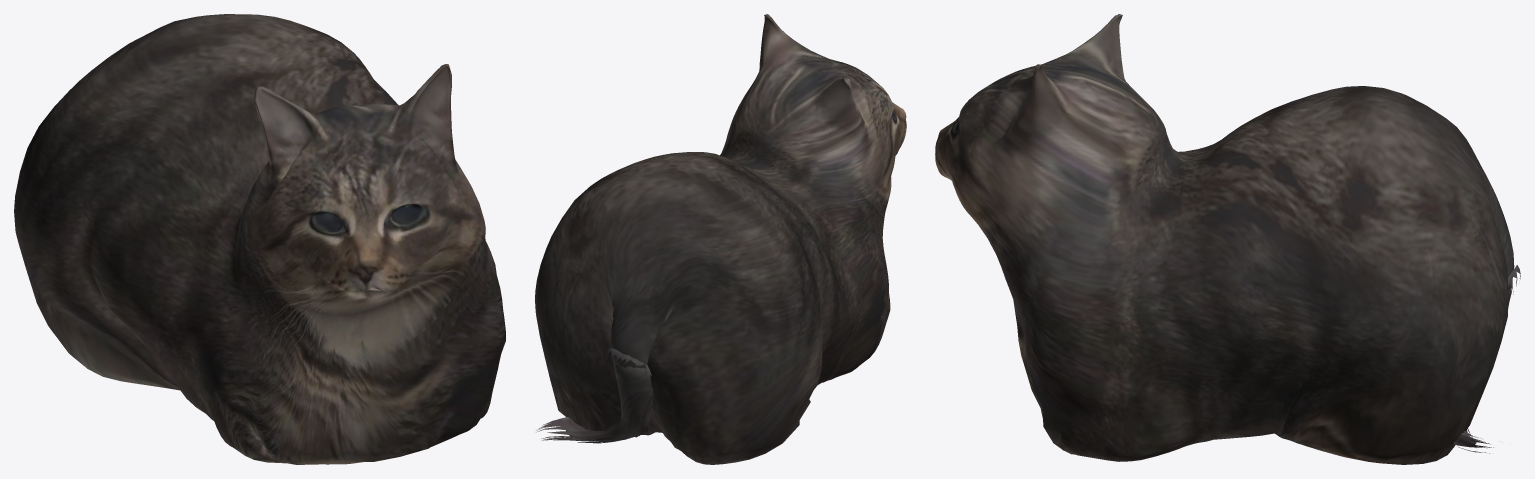
Rendered from oiia_cat_spin.glb.
The picture shows the model from 3 angles, left to right: view 1: azimuth 30°, elevation 25°; view 2: azimuth 150°, elevation 25°; view 3: azimuth 270°, elevation 25°; orthographic projection. The views are drawn at different scales.
Parts seen in each view (by area): view 1: OiiaCatSpin; view 2: OiiaCatSpin; view 3: OiiaCatSpin.
Boxes of the visible parts, x1,y1,x2,y2 form: OiiaCatSpin: [14, 14, 505, 464]; OiiaCatSpin: [535, 14, 906, 464]; OiiaCatSpin: [935, 14, 1520, 464].
Bounding box in the file's own units: 27.25 × 31.06 × 42.67.
Materials: 1 (1 with a texture image).
